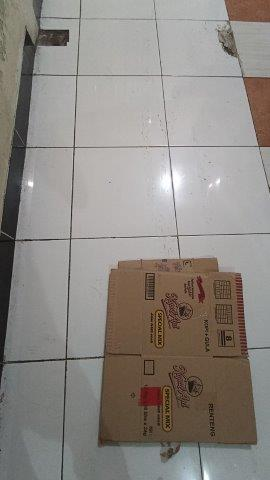kardus: (99, 260, 257, 445)
